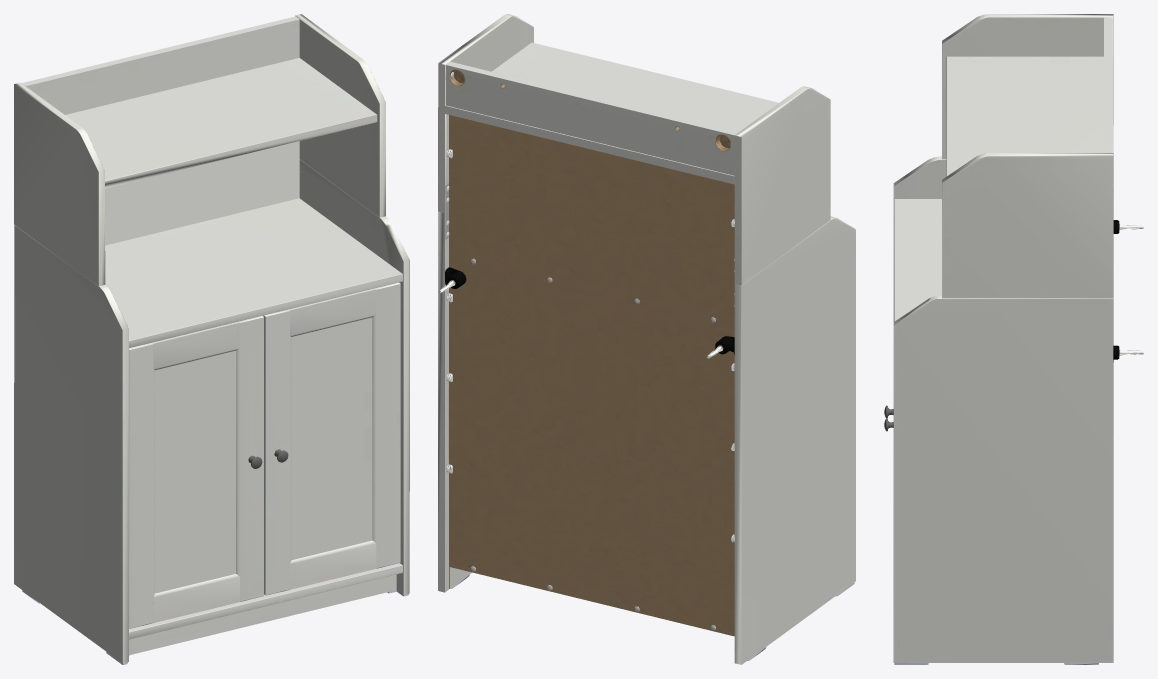
The model's file is 57 - HAUGA - 雙門櫃, 白色, 70x116 公分 IKEA 線上購物.glb.
3 renders of one model, left to right at view 1: azimuth 30°, elevation 25°; view 2: azimuth 150°, elevation 25°; view 3: azimuth 270°, elevation 25°, orthographic. The views are drawn at different scales.
Parts seen in each view (by area): view 1: model; view 2: model; view 3: model.
Part boxes in pixels (<box>): model: <box>14,14,409,664</box>; model: <box>438,14,855,664</box>; model: <box>884,14,1143,664</box>.
Bounding box in the file's own units: 0.696 × 1.16 × 0.5364.
Materials: 1 (1 with a texture image).
